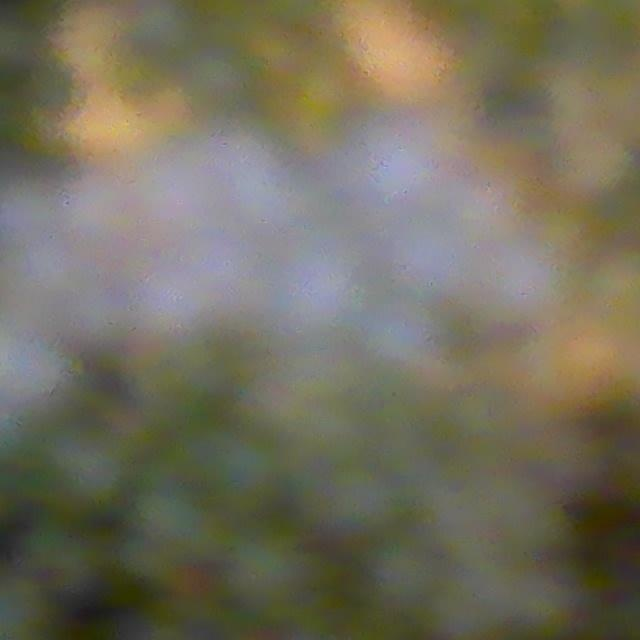SeaGrape: (220, 527, 314, 619), (273, 255, 364, 325), (395, 213, 471, 292), (131, 259, 207, 332), (240, 146, 310, 219), (70, 286, 146, 350), (485, 237, 553, 307), (343, 128, 416, 192), (191, 237, 264, 298), (0, 319, 61, 392), (380, 301, 444, 368), (64, 180, 140, 228), (3, 189, 65, 237), (0, 243, 55, 295)
